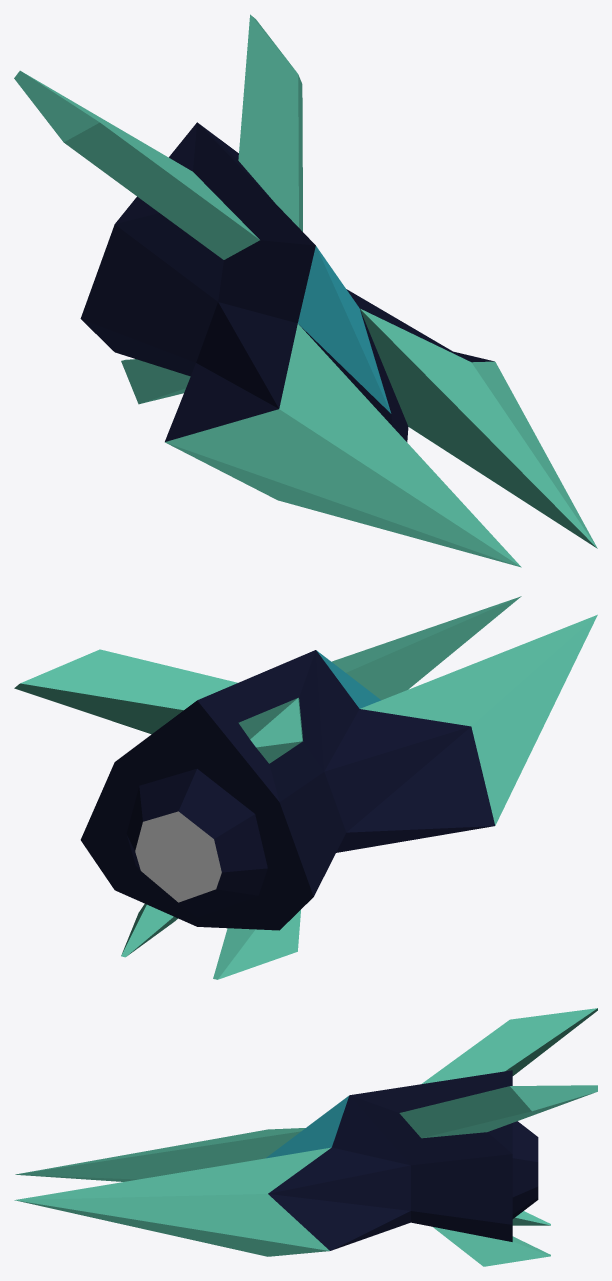
File: DroneShip.fbx
3 views of the same model, one above another, from view 1: azimuth 30°, elevation 25°; view 2: azimuth 150°, elevation 25°; view 3: azimuth 270°, elevation 25° (orthographic). The views are drawn at different scales.
Parts seen in each view (by area): view 1: Cube; view 2: Cube; view 3: Cube.
Boxes of the visible parts, x1=… form: Cube: x1=14, y1=14, x2=597, y2=567; Cube: x1=14, y1=596, x2=597, y2=979; Cube: x1=14, y1=1008, x2=597, y2=1266.
Size of the model in its own units: 342 by 279 by 762.
